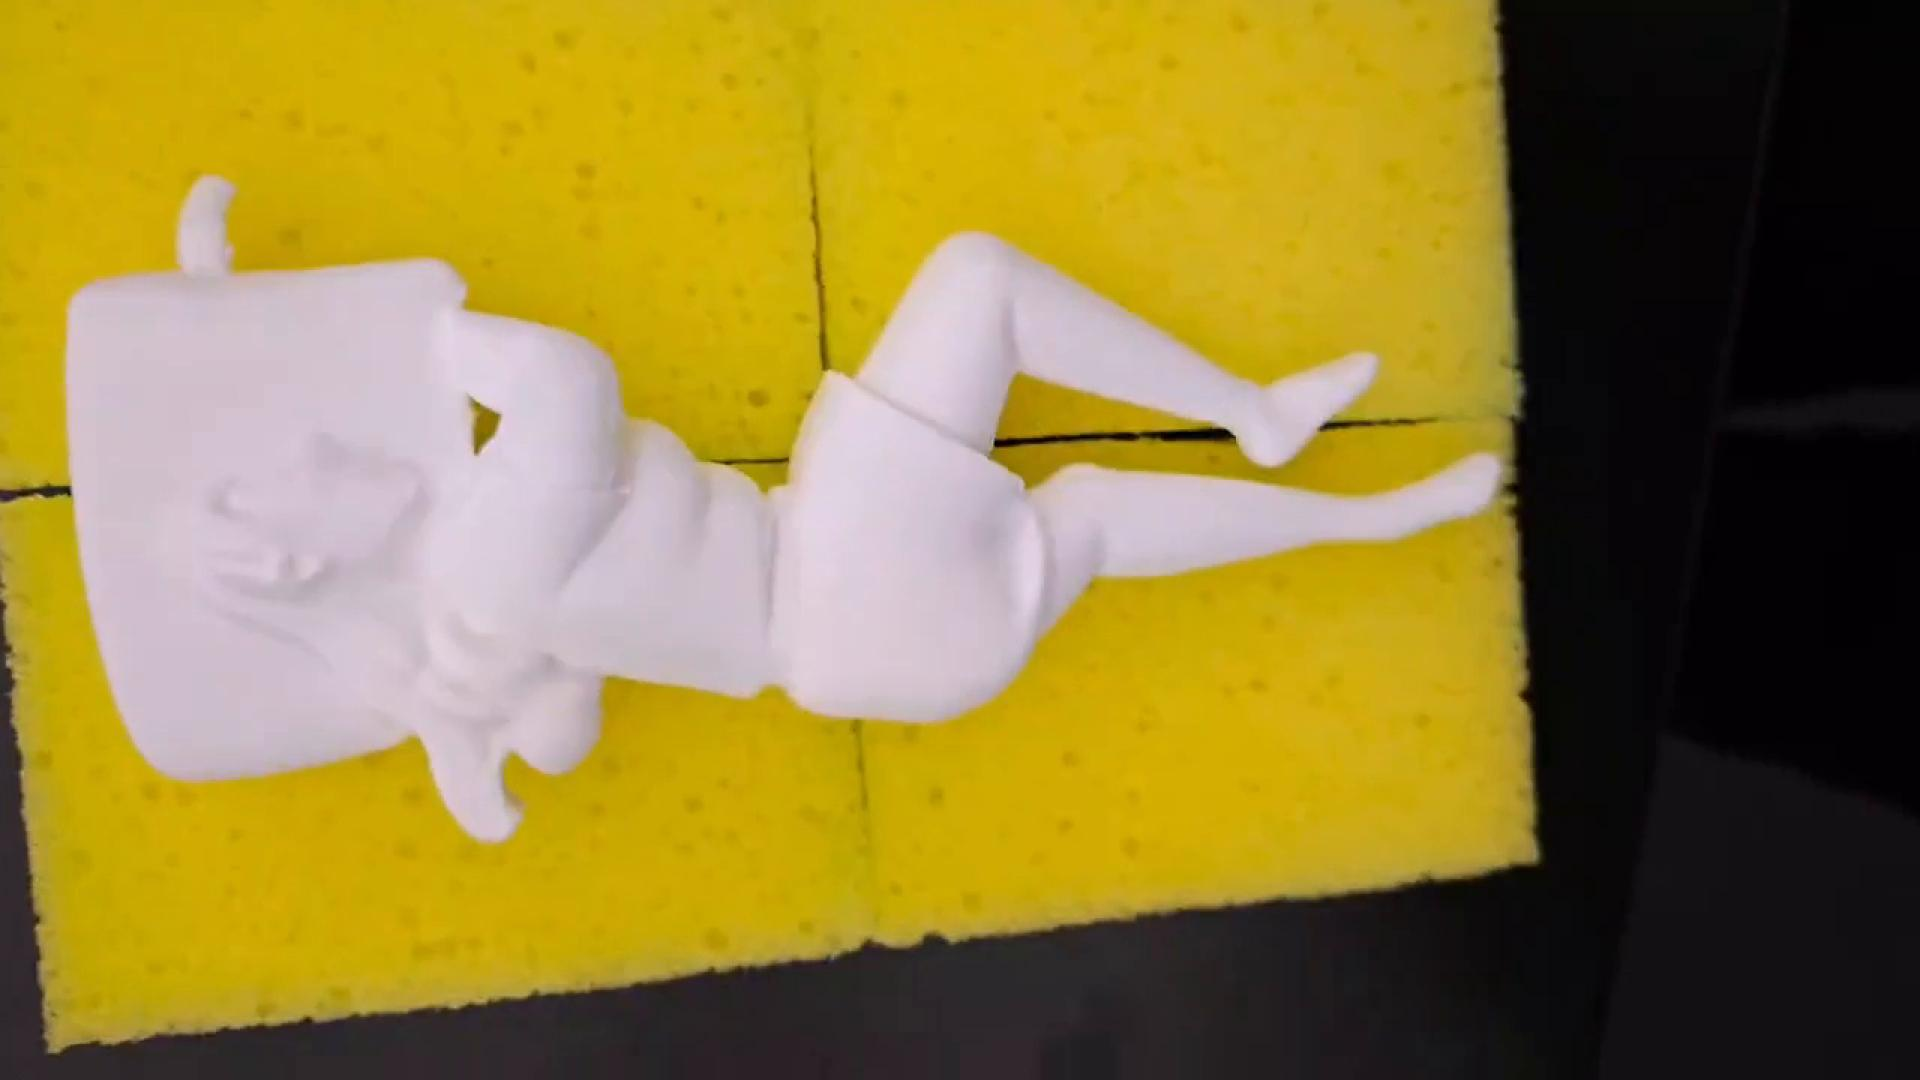Good-style: (54, 175, 1502, 852)
